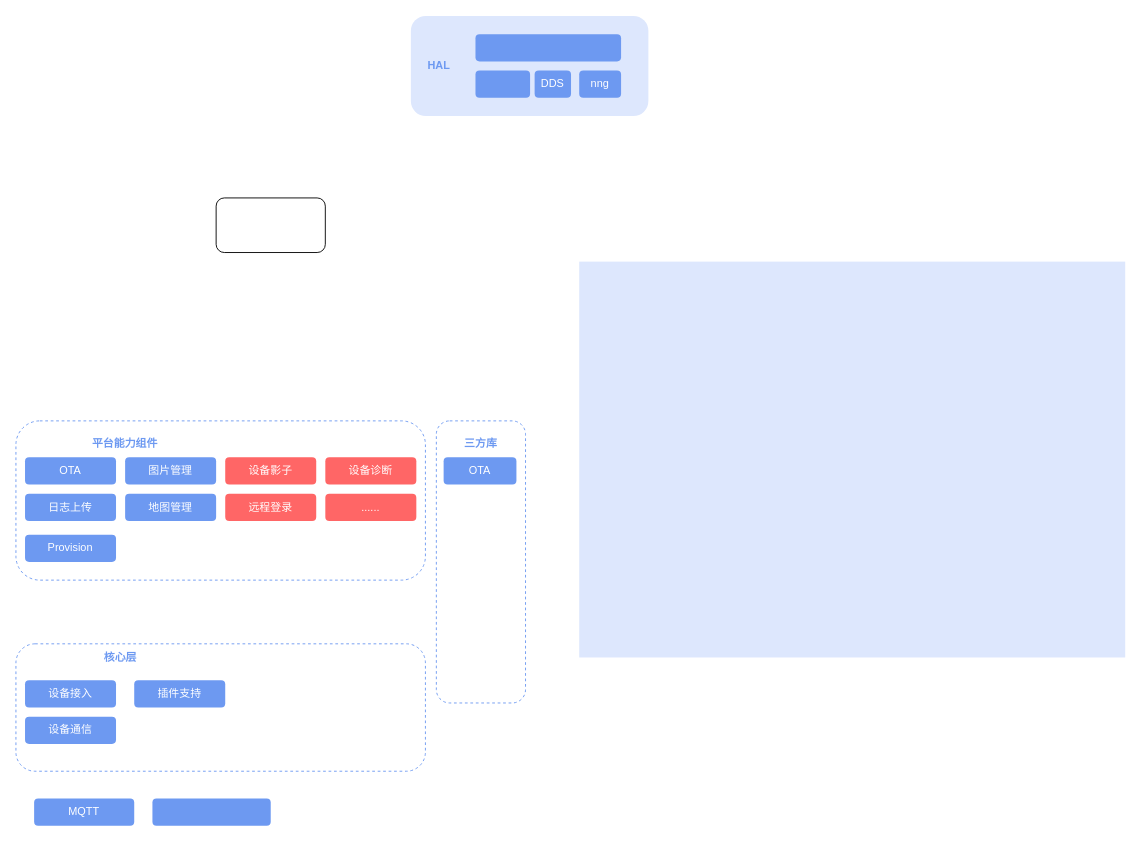
Some shapes in this 1141 by 841 pixel diagram are drawn without their labels. Here are the shapes that lost their labels. From the top down, the centre of each, then its label:
At (502,83): "nanomsg".
At (211,811): "HTTP".
